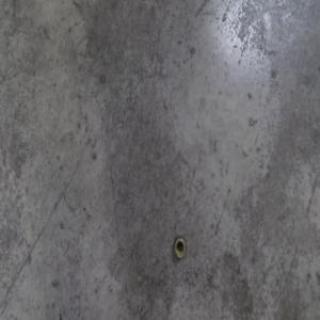Nuttrack_idkeyframe: (172, 233, 185, 260)
